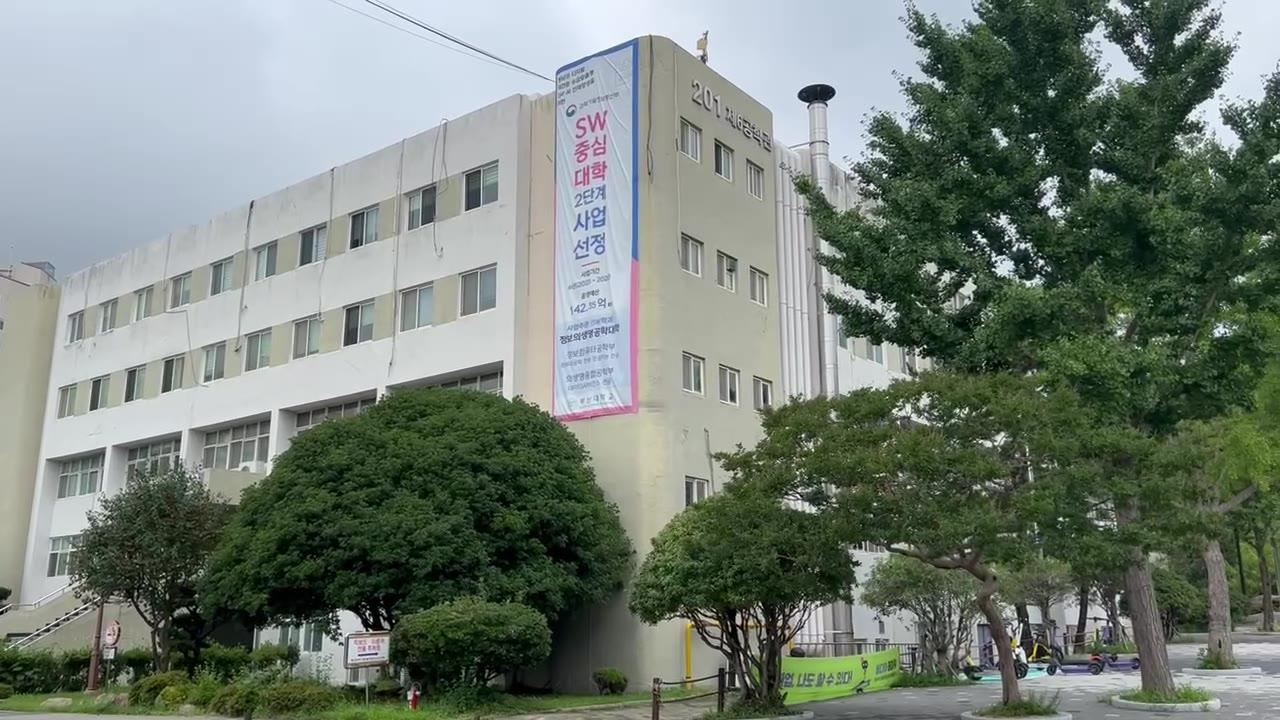building: (12, 172, 547, 394)
